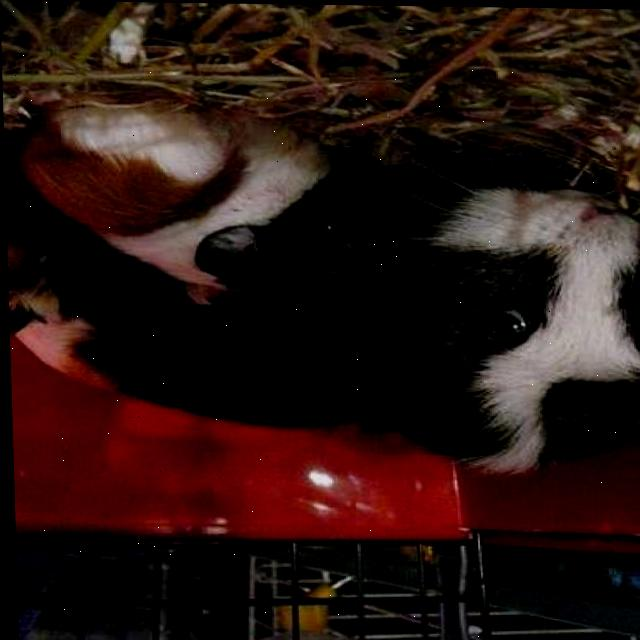guinea pig: (15, 184, 640, 472)
